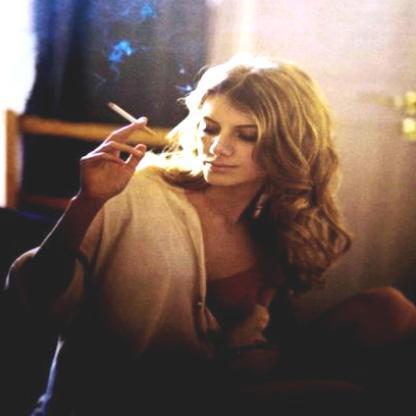cigarette: (107, 98, 152, 134)
person: (40, 58, 348, 415)
smoke: (105, 36, 136, 76)
